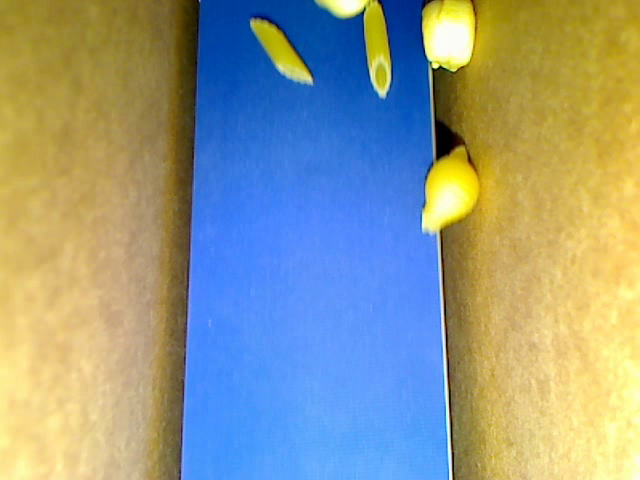penne: (249, 17, 315, 85), (363, 1, 391, 100)
shell: (422, 147, 479, 237)
